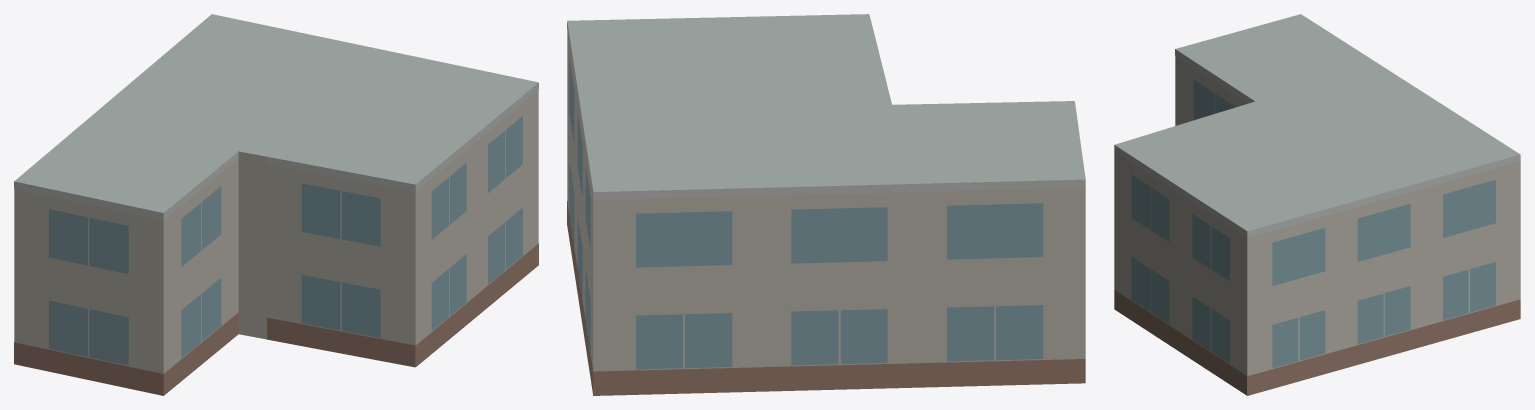
Rendered from survey-upis-32724713.glb.
3 renders of one model, left to right at view 1: azimuth 30°, elevation 25°; view 2: azimuth 150°, elevation 25°; view 3: azimuth 270°, elevation 25°, orthographic. The views are drawn at different scales.
Parts seen in each view (by area): view 1: survey-upis-32724713.tmp; view 2: survey-upis-32724713.tmp; view 3: survey-upis-32724713.tmp.
Boxes of the visible parts, x1,y1,x2,y2 form: survey-upis-32724713.tmp: (14,14,538,395); survey-upis-32724713.tmp: (567,14,1085,395); survey-upis-32724713.tmp: (1114,14,1520,395).
Size of the model in its own units: 17.29 by 6.1 by 13.66.
